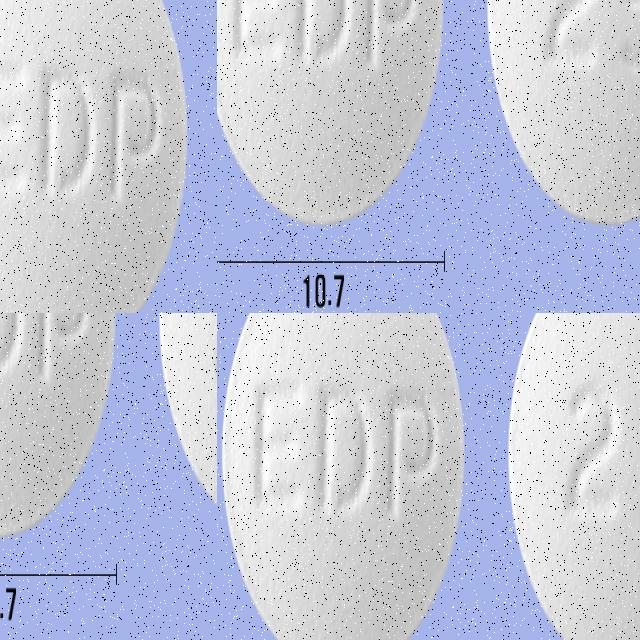Ciflox: (220, 313, 468, 640), (507, 313, 640, 640)
Ciflox-Q: (217, 0, 448, 232), (489, 0, 640, 237)
Claton: (0, 189, 217, 313)
Craproxin: (11, 364, 173, 640)
